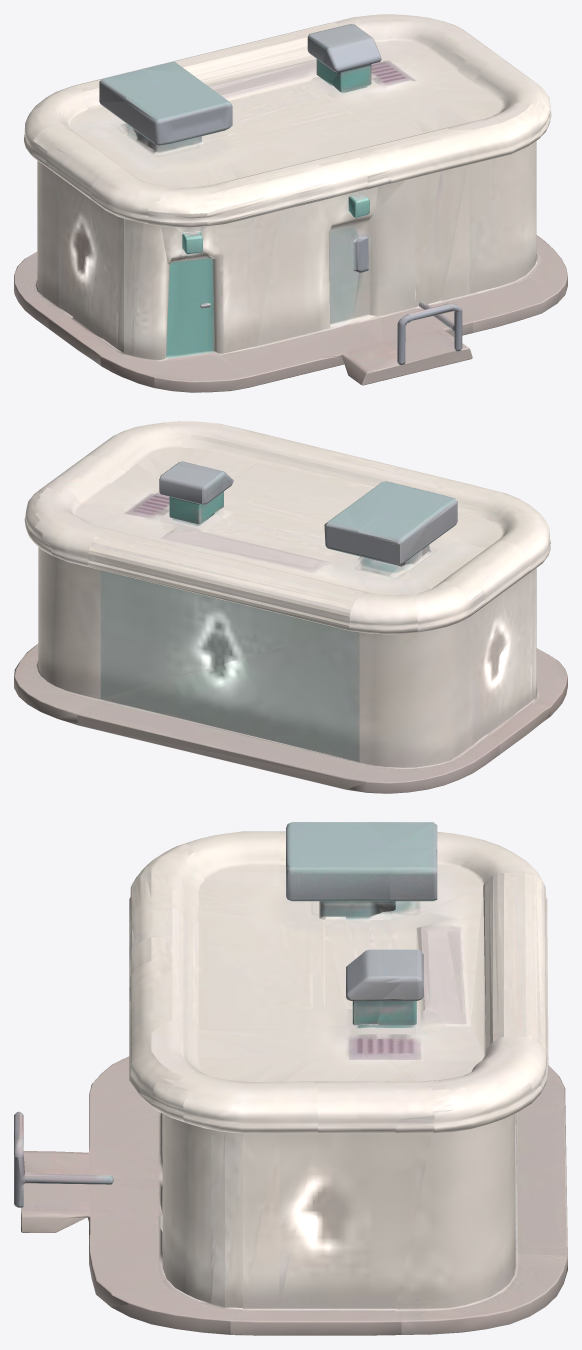
Rendered from toilet.glb.
3 views of the same model, one above another, from view 1: azimuth 30°, elevation 25°; view 2: azimuth 150°, elevation 25°; view 3: azimuth 270°, elevation 25° (orthographic). The views are drawn at different scales.
Visible parts, largest first — view 1: mesh_node; view 2: mesh_node; view 3: mesh_node.
Boxes of the visible parts, box(x1,y1,x2,y2) form: mesh_node: box(14, 14, 567, 392); mesh_node: box(14, 421, 567, 793); mesh_node: box(14, 822, 567, 1335).
Bounding box in the file's own units: 1.9 × 0.865 × 1.56.
Materials: 1 (1 with a texture image).
